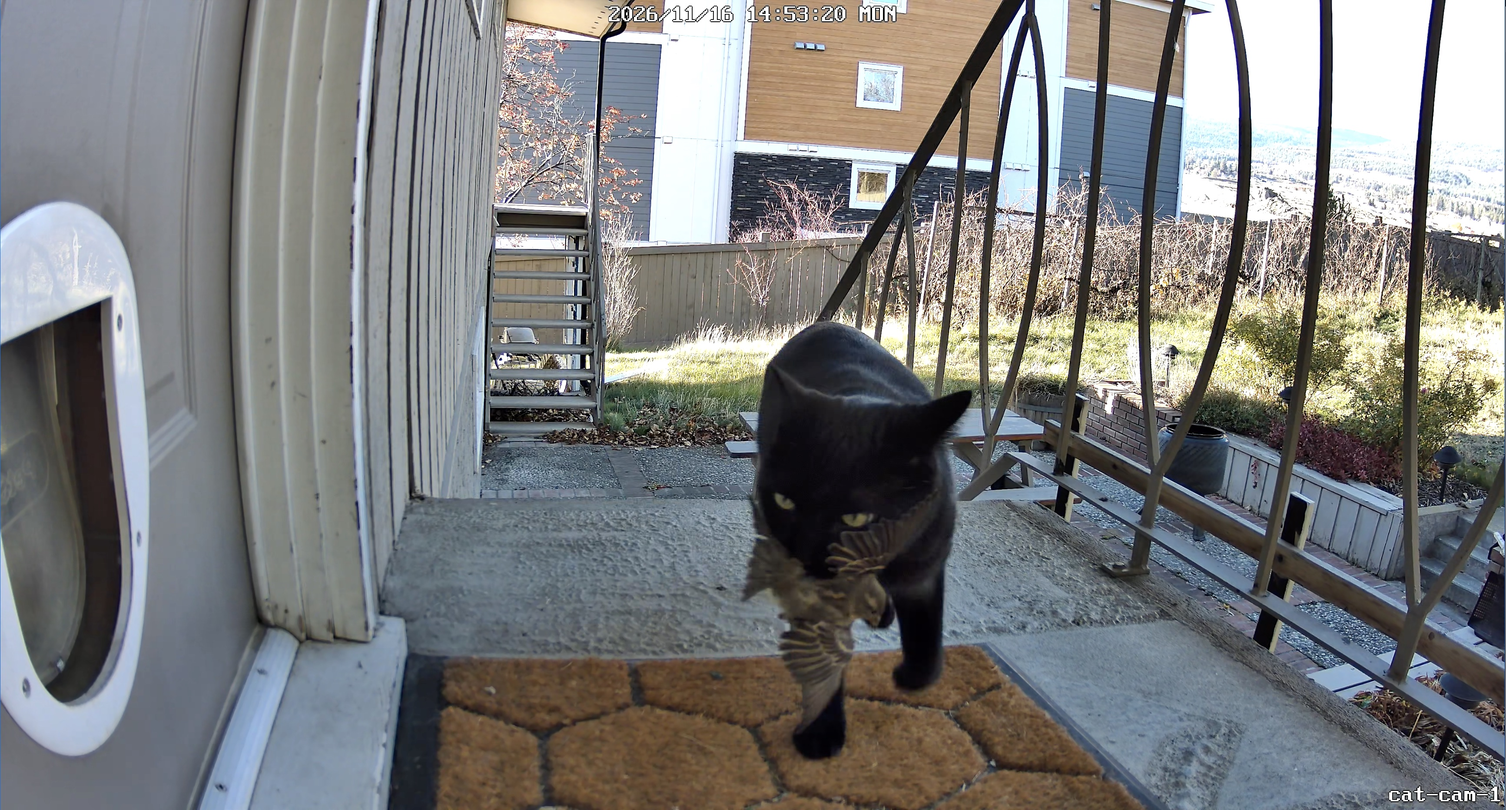prey: (745, 478, 949, 701)
